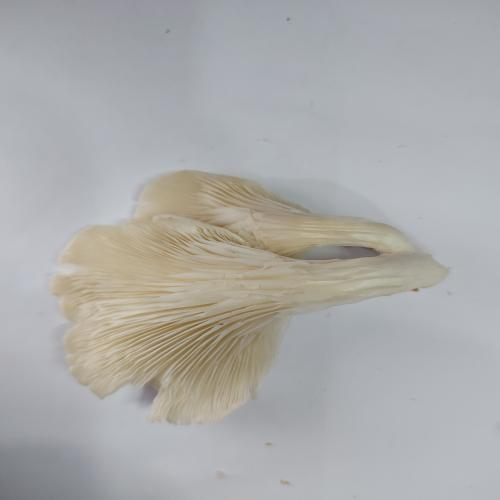Oyster Mushroom: (50, 169, 450, 426)
